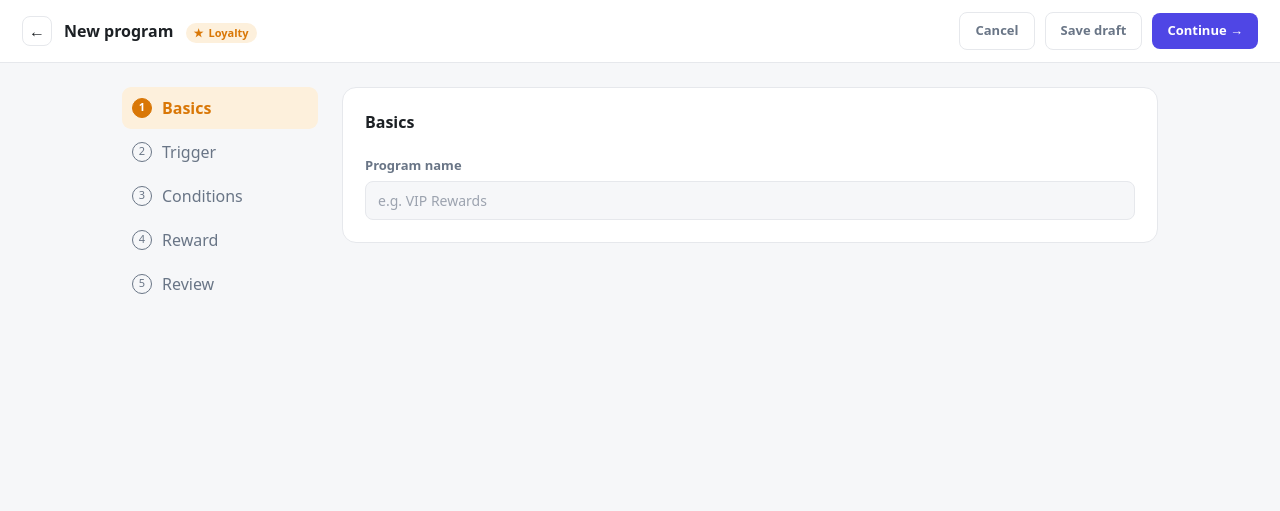
Test: selecting review_submitted swaps payload chips to show rating, product_id, has_photo
Click the button "Continue →" at {"x": 1205, "y": 31}, box [1152,13,1258,48]
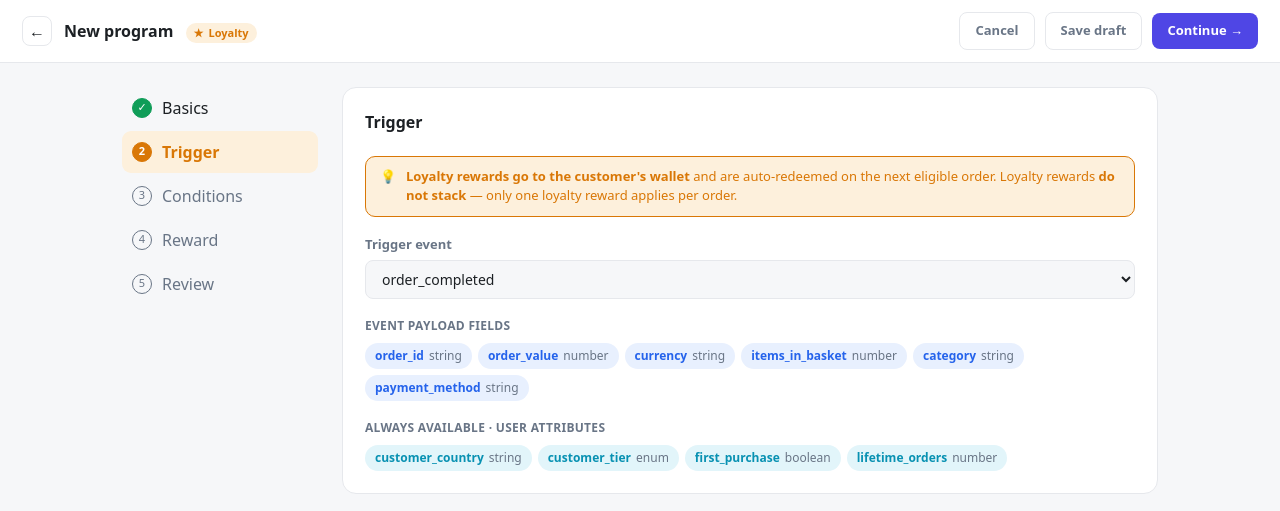
Select "review_submitted" in the dropdown at {"x": 750, "y": 280}, box [365,260,1135,299]
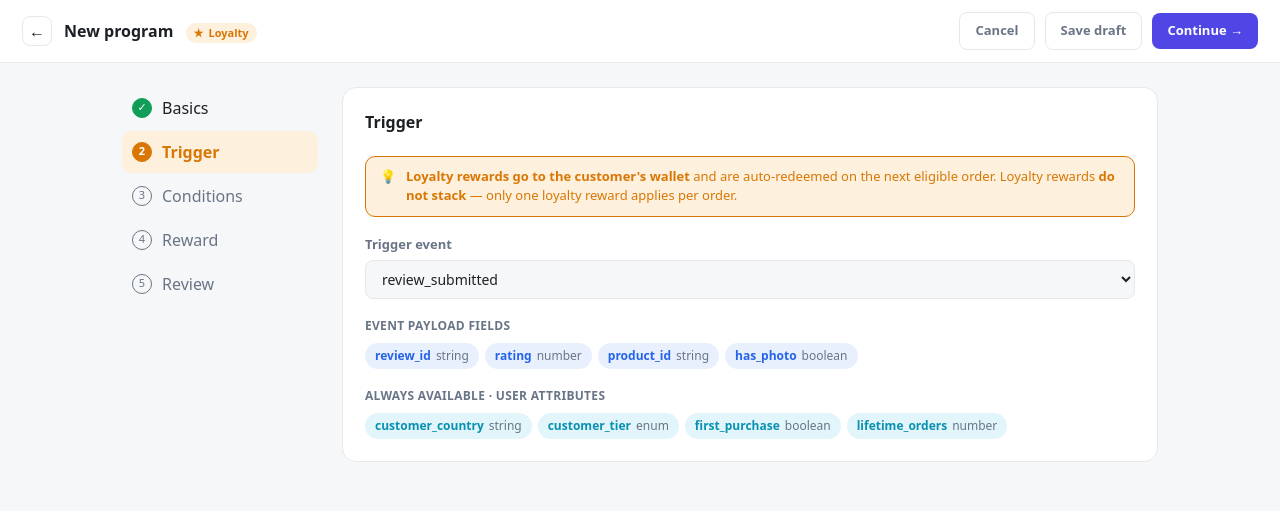
Check: the text "rating" is shown, box [495,347,532,365]
Check: the text "product_id" is shown, box [608,347,671,365]
Check: the text "has_photo" is shown, box [735,347,797,365]
